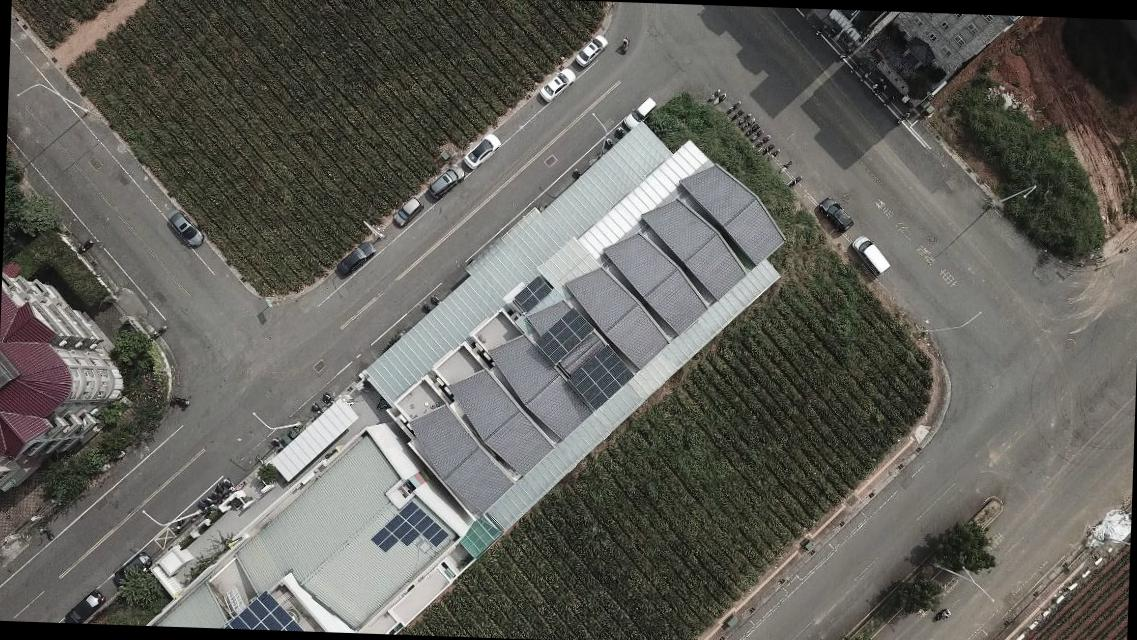vehicle: (60, 586, 108, 624), (334, 237, 376, 279), (165, 206, 204, 250), (851, 236, 890, 278), (112, 548, 150, 586), (538, 67, 576, 101), (464, 132, 498, 170), (622, 94, 657, 130), (574, 34, 609, 68), (428, 164, 463, 198), (818, 197, 852, 230), (392, 197, 422, 228)
